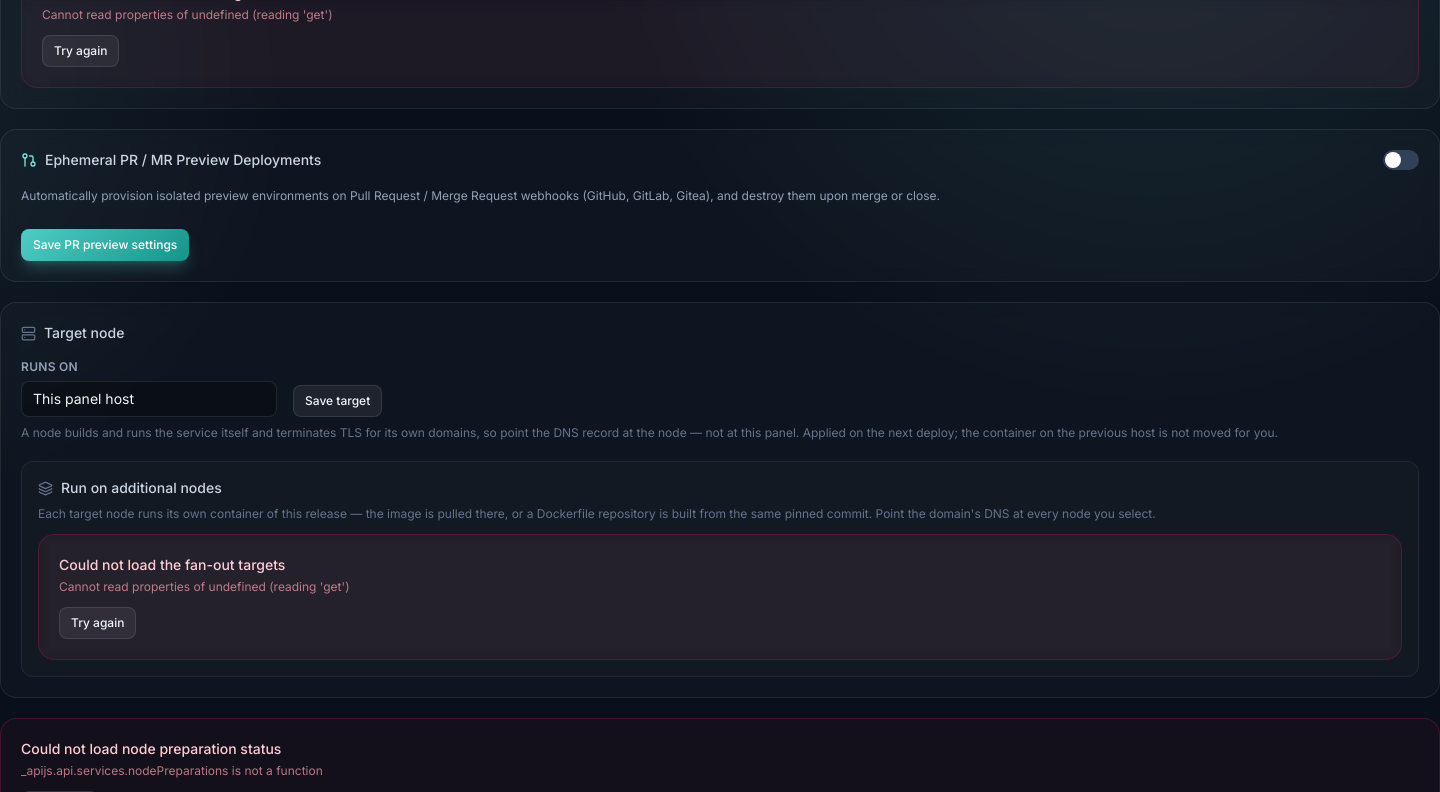
Test: SettingsTab target node › reports a failed save instead of leaving the operator guessing
(page scrolled)
expect the text "Target node" is shown: met, box [21,324,124,341]
What coordinates should you click on to do the following:
click the button "Save target"
I would click on:
 (338, 401)
Its box is [293,385,382,417].
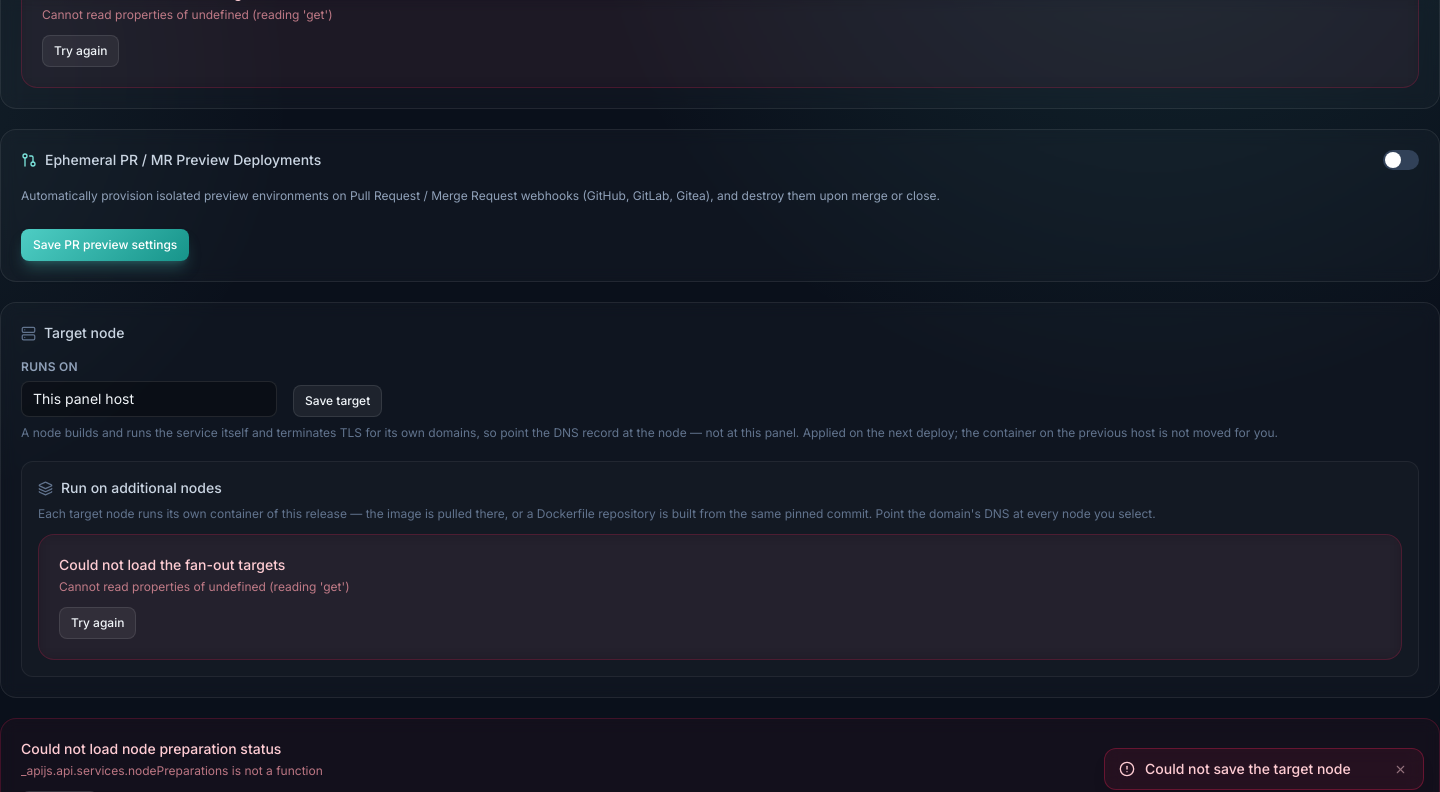
expect the text "Could not save the target node" is shown: met, box [1145,759,1382,779]
